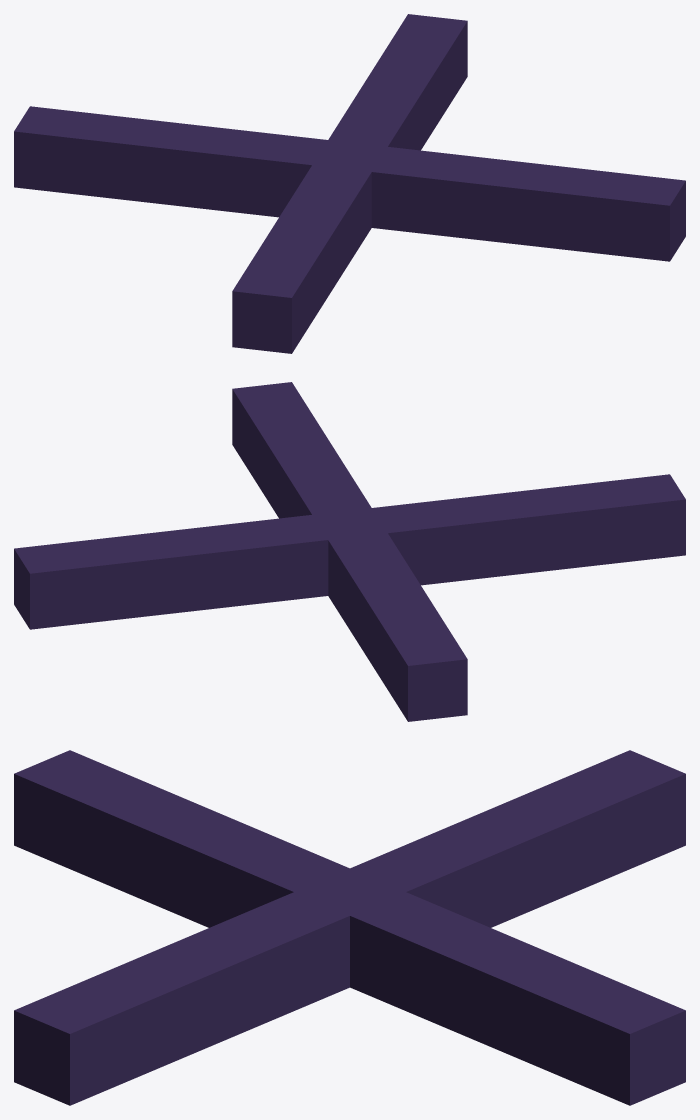
The model's file is companion-downed-fade.glb.
The picture shows the model from 3 angles, top to bottom: view 1: azimuth 30°, elevation 25°; view 2: azimuth 150°, elevation 25°; view 3: azimuth 270°, elevation 25°; orthographic projection. The views are drawn at different scales.
Visible parts, largest first — view 1: downed-cross-1, downed-cross-0; view 2: downed-cross-0, downed-cross-1; view 3: downed-cross-0, downed-cross-1.
Part boxes in pixels (left/top/right/bottom): downed-cross-1: left=14, top=106, right=685, bottom=261; downed-cross-0: left=232, top=14, right=467, bottom=353; downed-cross-0: left=14, top=474, right=685, bottom=629; downed-cross-1: left=232, top=382, right=467, bottom=721; downed-cross-0: left=14, top=750, right=685, bottom=1105; downed-cross-1: left=14, top=750, right=685, bottom=1105.
Size of the model in its own units: 0.1697 by 0.02 by 0.1697.
